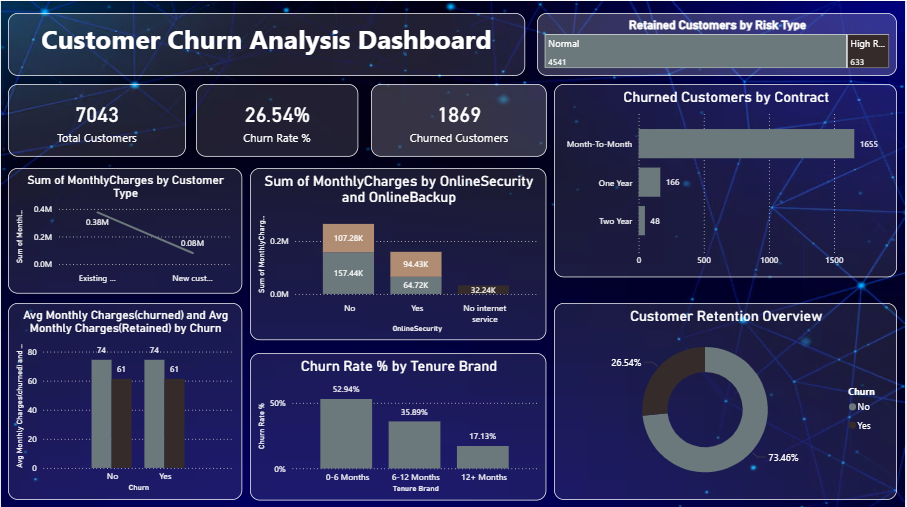

The page's visual inventory and layout, read from the dashboard file:
{"tool":"powerbi","page":{"name":"Page 1","canvas":[1280,720],"ordinal":0},"visuals":[{"type":"textbox","box":[9.9,17,732.8,89.3],"z":0},{"type":"treemap","fields":{"Values":["Calculated Measure.Retained Customers"],"Group":["telco_churn_unclean.Risk Type"]},"box":[759.7,17,510.2,89.3],"z":1000},{"type":"card","fields":{"Values":["Calculated Measure.Total Customers"]},"box":[9.9,117.6,252.3,103.5],"z":2000},{"type":"card","fields":{"Values":["Calculated Measure.Churn Rate"]},"box":[276.4,117.6,229.6,103.5],"z":3000},{"type":"donutChart","title":"Customer Retention Overview","fields":{"Y":["Calculated Measure.Total Customers"],"Category":["telco_churn_unclean.Churn"]},"box":[783.8,428,486.1,279.2],"z":4000},{"type":"barChart","fields":{"Category":["telco_churn_unclean.Contract"],"Y":["Calculated Measure.Churned Customers"]},"box":[783.8,117.6,486.1,273.5],"z":5000},{"type":"card","fields":{"Values":["Calculated Measure.Churned Customers"]},"box":[524.4,117.6,249.4,103.5],"z":6000},{"type":"columnChart","fields":{"Category":["telco_churn_unclean.OnlineSecurity"],"Y":["Sum(telco_churn_unclean.MonthlyCharges)"],"Series":["telco_churn_unclean.OnlineBackup"]},"box":[353.5,236.7,420.4,244.5],"z":7000},{"type":"columnChart","fields":{"Y":["Calculated Measure.Churn Rate %"],"Category":["telco_churn_unclean.Tenure Brand"]},"box":[353.5,498.3,420.4,208.7],"z":8000},{"type":"clusteredColumnChart","fields":{"Y":["Calculated Measure.Avg Monthly Charges(churned)","Calculated Measure.Avg Monthly Charges(Retained)"],"Category":["telco_churn_unclean.Churn"]},"box":[9.3,428.2,331.7,278.7],"z":9000},{"type":"lineChart","fields":{"Category":["telco_churn_unclean.Customer Type"],"Y":["Sum(telco_churn_unclean.MonthlyCharges)"]},"box":[9.3,236.7,331.7,177.5],"z":10000}]}

Visuals, with their boxes in screenshot pixels (x1, y1, x2, y2), scaled from the page's 1280x720 canvas onto the 907x507 screenshot:
textbox: left=7, top=12, right=526, bottom=75
treemap - Calculated Measure.Retained Customers x telco_churn_unclean.Risk Type: left=538, top=12, right=900, bottom=75
card - Calculated Measure.Total Customers: left=7, top=83, right=186, bottom=156
card - Calculated Measure.Churn Rate: left=196, top=83, right=359, bottom=156
"Customer Retention Overview" donutChart: left=555, top=301, right=900, bottom=498
barChart - telco_churn_unclean.Contract x Calculated Measure.Churned Customers: left=555, top=83, right=900, bottom=275
card - Calculated Measure.Churned Customers: left=372, top=83, right=548, bottom=156
columnChart - telco_churn_unclean.OnlineSecurity x Sum(telco_churn_unclean.MonthlyCharges): left=250, top=167, right=548, bottom=339
columnChart - Calculated Measure.Churn Rate % x telco_churn_unclean.Tenure Brand: left=250, top=351, right=548, bottom=498
clusteredColumnChart - Calculated Measure.Avg Monthly Charges(churned) x Calculated Measure.Avg Monthly Charges(Retained): left=7, top=302, right=242, bottom=498
lineChart - telco_churn_unclean.Customer Type x Sum(telco_churn_unclean.MonthlyCharges): left=7, top=167, right=242, bottom=292
